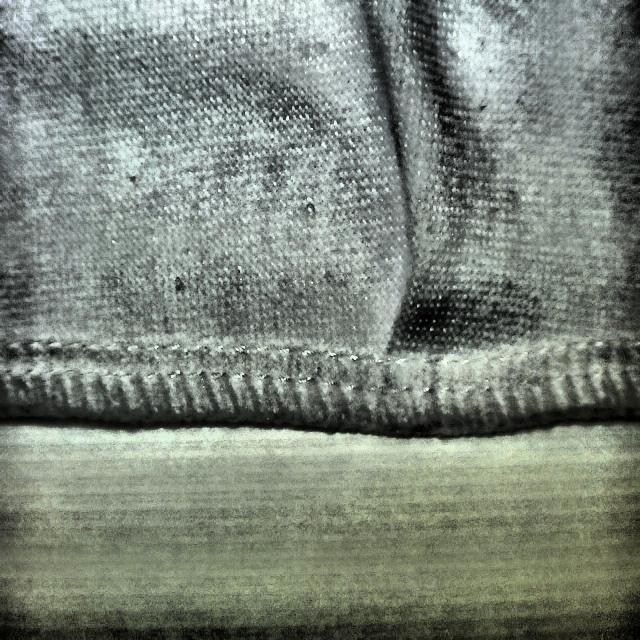gray stitch: (359, 97, 469, 438)
